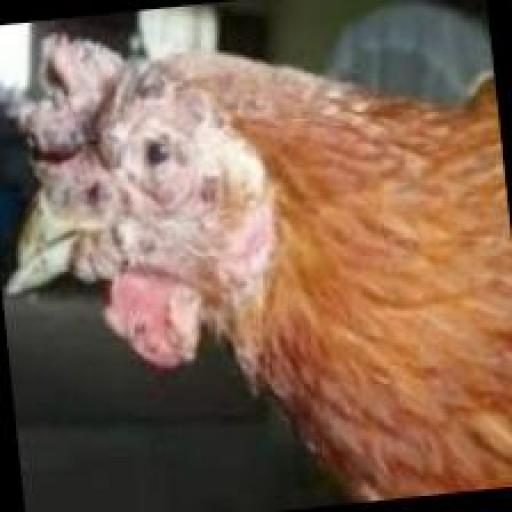disease: (3, 26, 266, 359)
